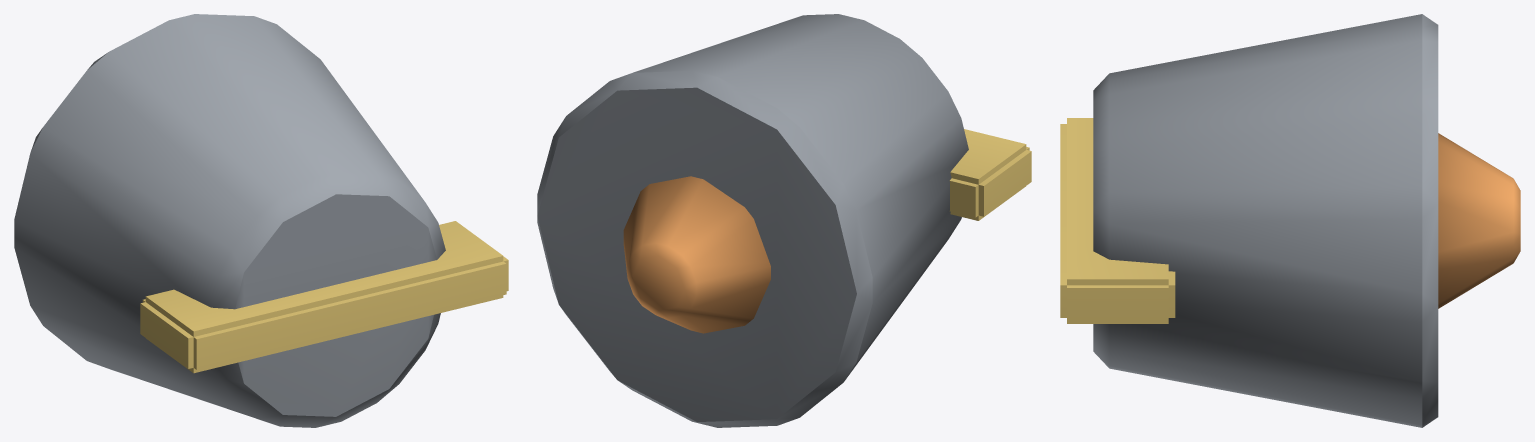
Rendered from mortar_shell_lod0.glb.
3 renders of one model, left to right at view 1: azimuth 30°, elevation 25°; view 2: azimuth 150°, elevation 25°; view 3: azimuth 270°, elevation 25°, orthographic. The views are drawn at different scales.
Parts seen in each view (by area): view 1: mortar_shell; view 2: mortar_shell; view 3: mortar_shell.
Boxes of the visible parts, <box> form: mortar_shell: <box>14,14,508,427</box>; mortar_shell: <box>537,14,1031,427</box>; mortar_shell: <box>1060,14,1520,427</box>.
Size of the model in its own units: 0.5021 by 0.5021 by 0.56.
